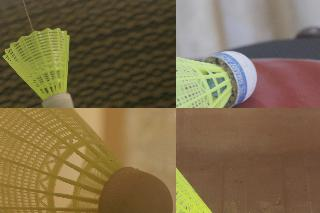shuttlecock: (0, 108, 172, 212), (3, 28, 74, 107), (176, 43, 257, 107), (176, 160, 263, 212)
